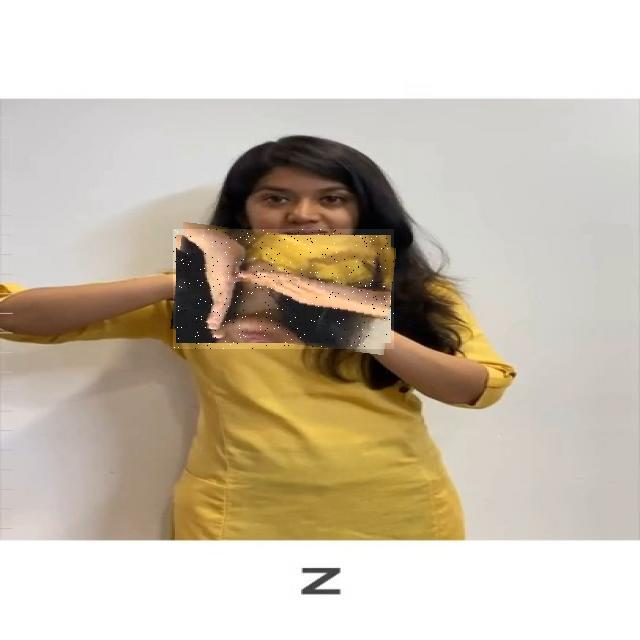Z: (173, 229, 394, 349)
